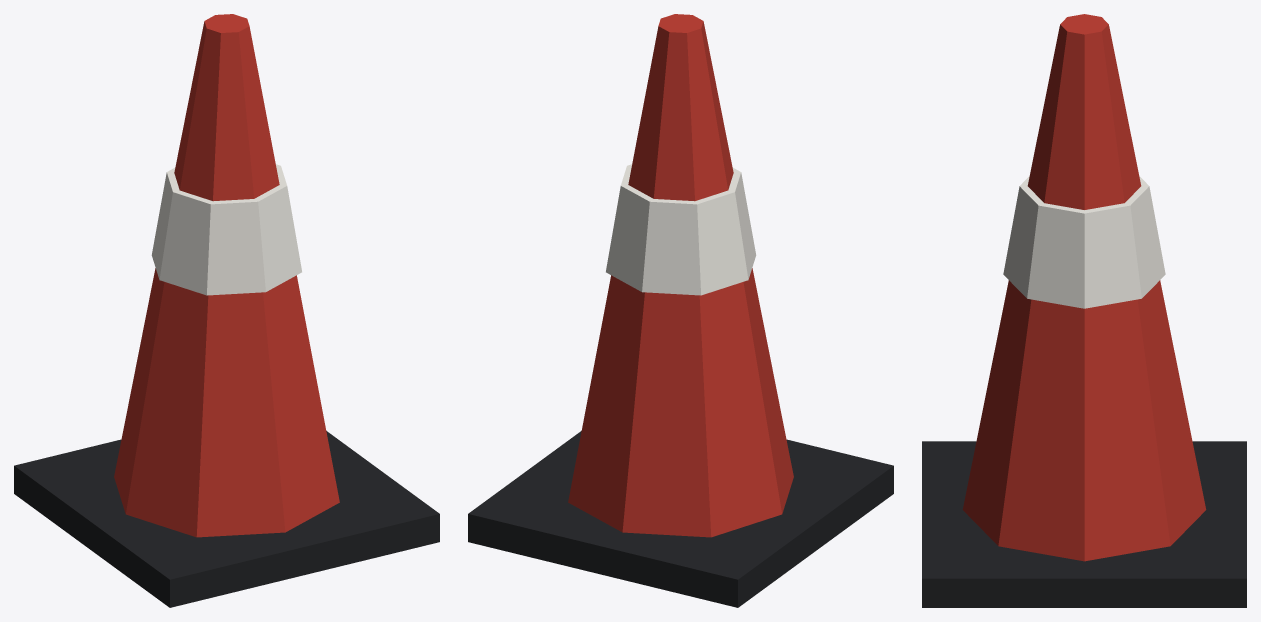
Rendered from TrafficCone.glb.
3 views of the same model, side by side, from view 1: azimuth 30°, elevation 25°; view 2: azimuth 150°, elevation 25°; view 3: azimuth 270°, elevation 25° (orthographic). The views are drawn at different scales.
Parts seen in each view (by area): view 1: TrafficCone_SignRed, TrafficCone_Rubber, TrafficCone_PaintWhite; view 2: TrafficCone_SignRed, TrafficCone_Rubber, TrafficCone_PaintWhite; view 3: TrafficCone_SignRed, TrafficCone_Rubber, TrafficCone_PaintWhite.
Part boxes in pixels (x1,y1,x2,y2): TrafficCone_SignRed: [114, 14, 339, 537]; TrafficCone_Rubber: [14, 431, 439, 607]; TrafficCone_PaintWhite: [151, 164, 301, 295]; TrafficCone_SignRed: [568, 14, 793, 537]; TrafficCone_Rubber: [468, 431, 893, 607]; TrafficCone_PaintWhite: [606, 164, 756, 295]; TrafficCone_SignRed: [962, 14, 1206, 561]; TrafficCone_Rubber: [922, 441, 1246, 607]; TrafficCone_PaintWhite: [1003, 176, 1165, 308].
Size of the model in its own units: 0.4 by 0.7 by 0.4.
